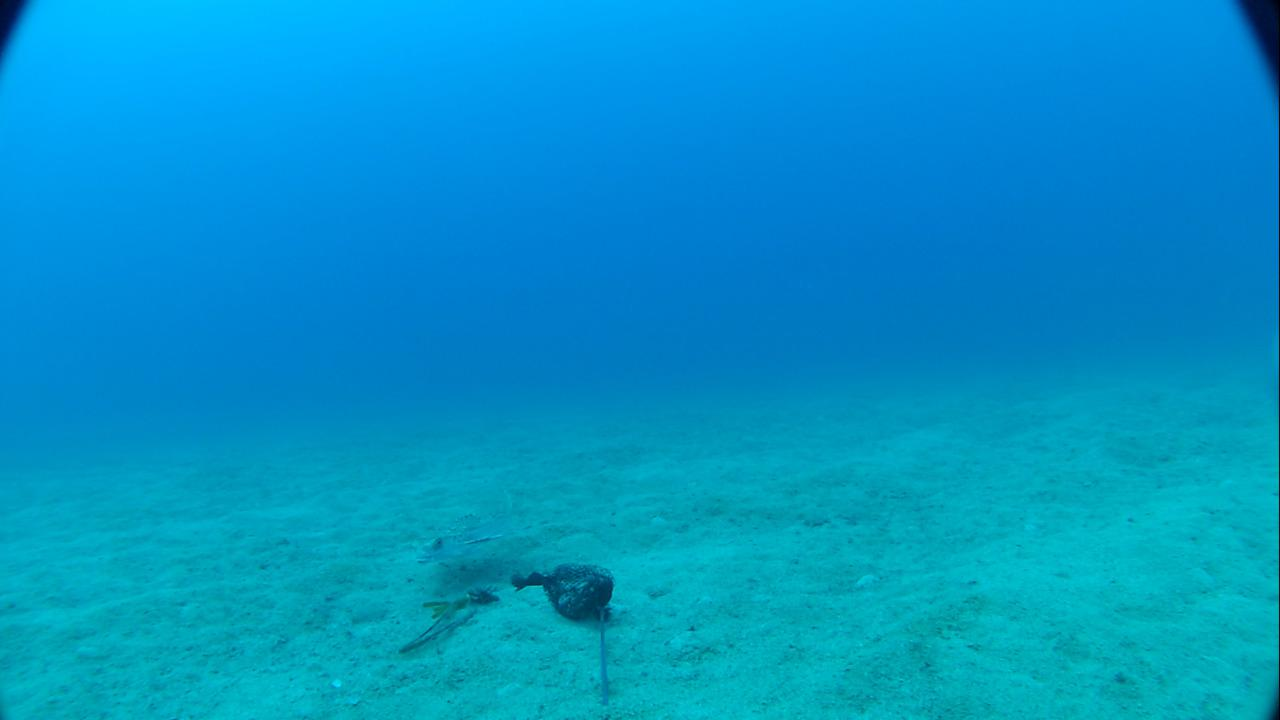dactylopterus: (407, 525, 542, 570)
